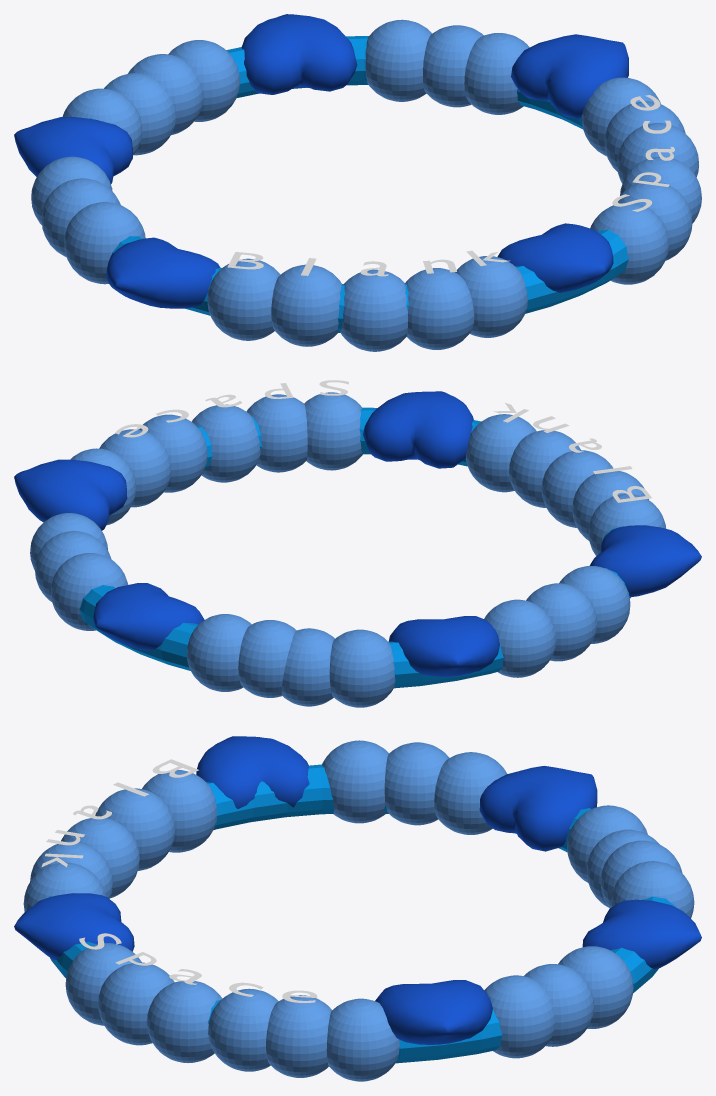
Rendered from NinteenEightyNine_blankspace.fbx.
3 renders of one model, top to bottom at view 1: azimuth 30°, elevation 25°; view 2: azimuth 150°, elevation 25°; view 3: azimuth 270°, elevation 25°, orthographic. The views are drawn at different scales.
Visible parts, largest first — view 1: Torus.028; view 2: Torus.028; view 3: Torus.028.
Part boxes in pixels (<box>): Torus.028: <box>14,14,701,351</box>; Torus.028: <box>14,391,701,707</box>; Torus.028: <box>14,736,701,1081</box>.
Bounding box in the file's own units: 121 × 17.15 × 116.
